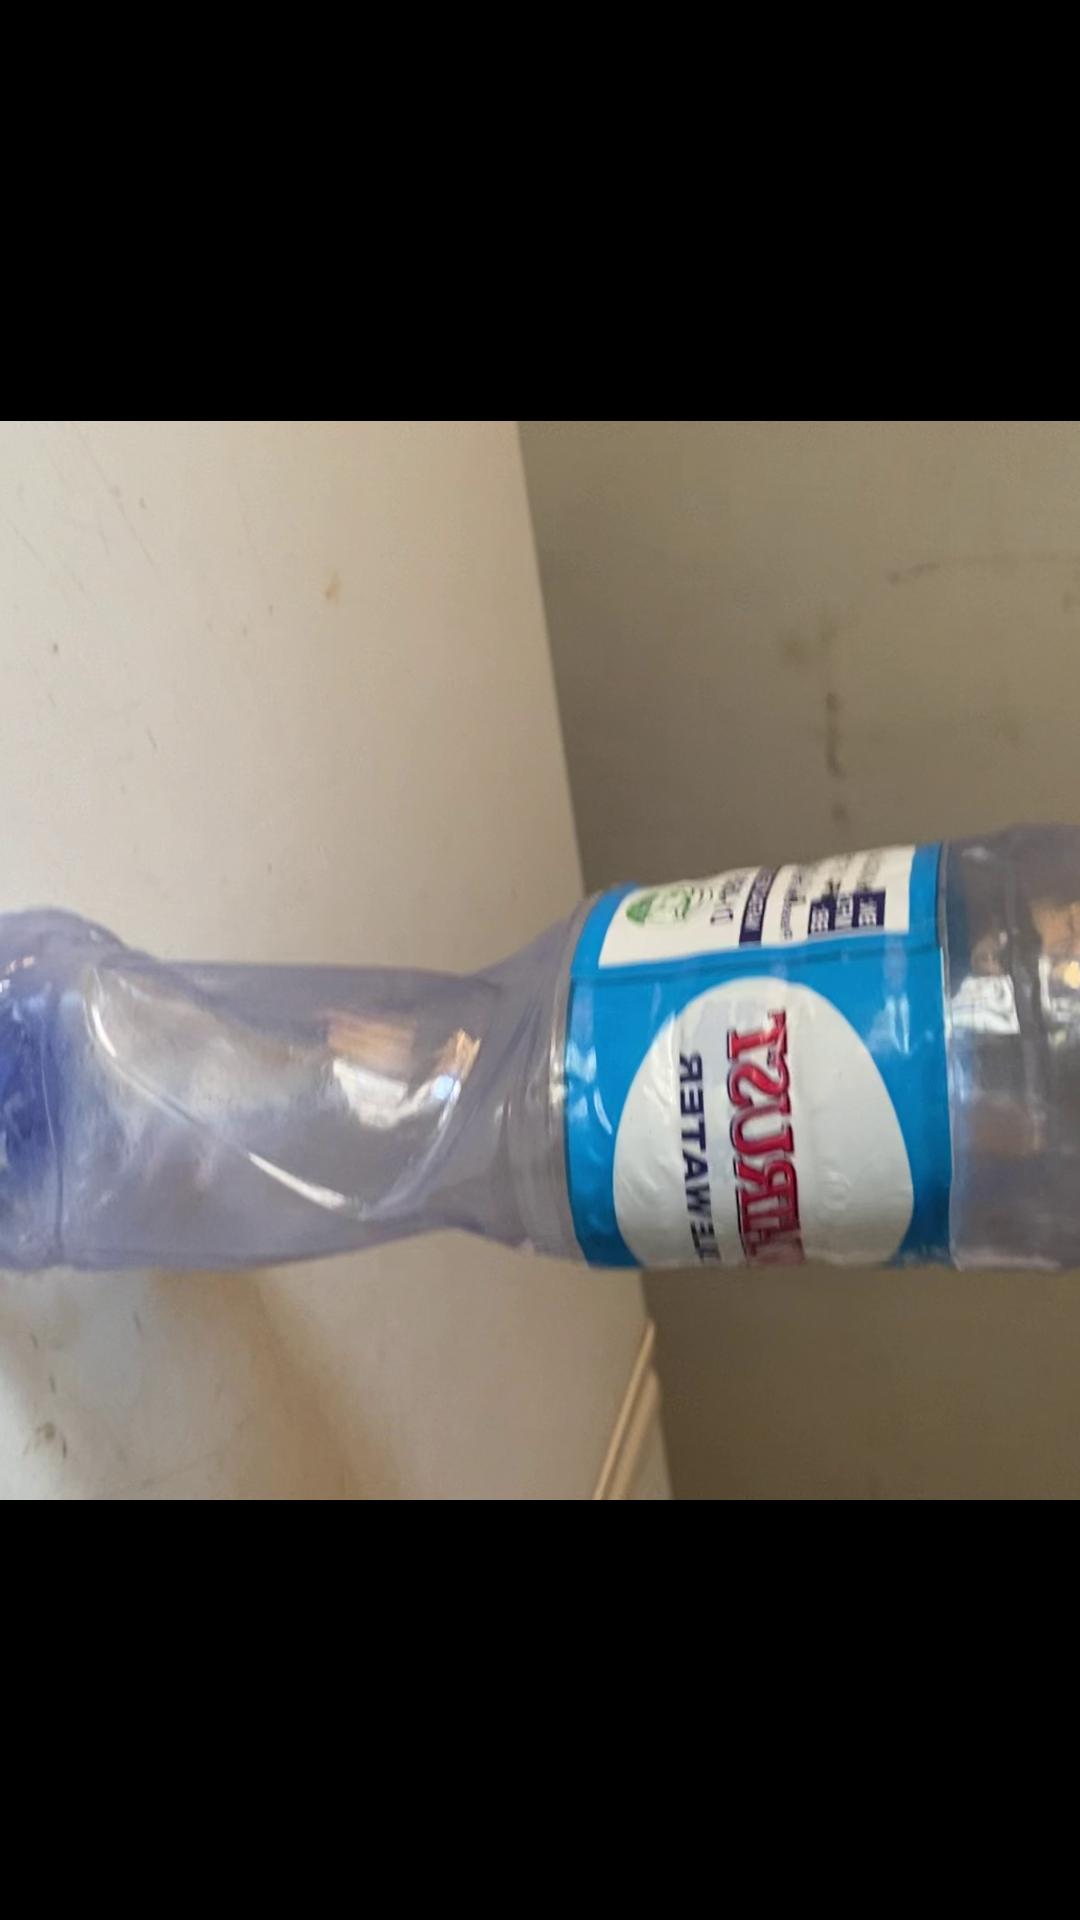crumbled: (0, 812, 1080, 1296)
label: (568, 855, 953, 1273)
